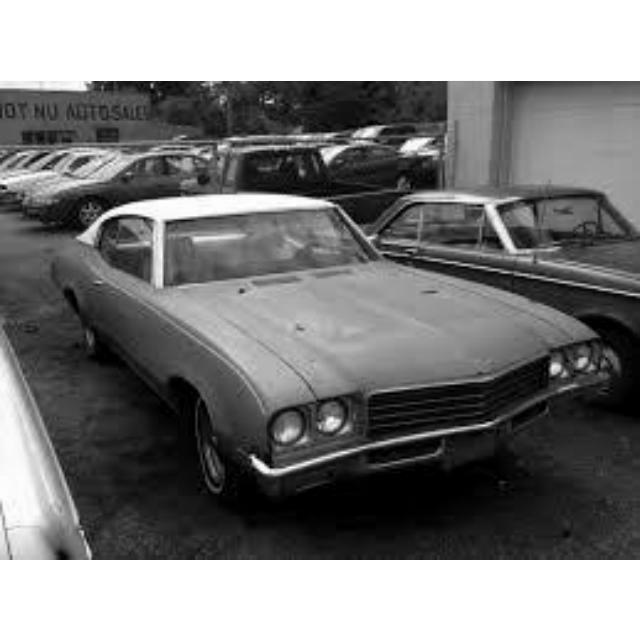bonnet-dent: (210, 269, 476, 382)
